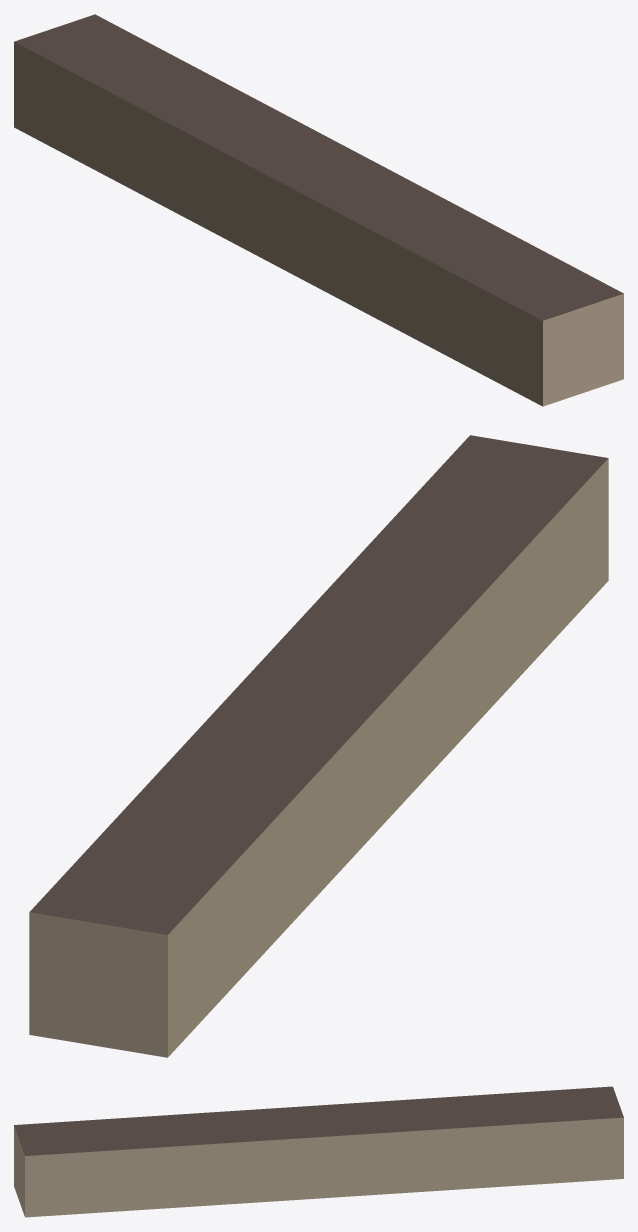
3 renders of one model, top to bottom at view 1: azimuth 30°, elevation 25°; view 2: azimuth 150°, elevation 25°; view 3: azimuth 270°, elevation 25°, orthographic. The views are drawn at different scales.
Parts seen in each view (by area): view 1: HP-w859424221; view 2: HP-w859424221; view 3: HP-w859424221.
Boxes of the visible parts, box(x1,y1,x2,y2) form: HP-w859424221: box(14, 14, 623, 406); HP-w859424221: box(29, 435, 608, 1057); HP-w859424221: box(14, 1086, 623, 1217).
Size of the model in its own units: 21.91 by 9 by 81.07.
